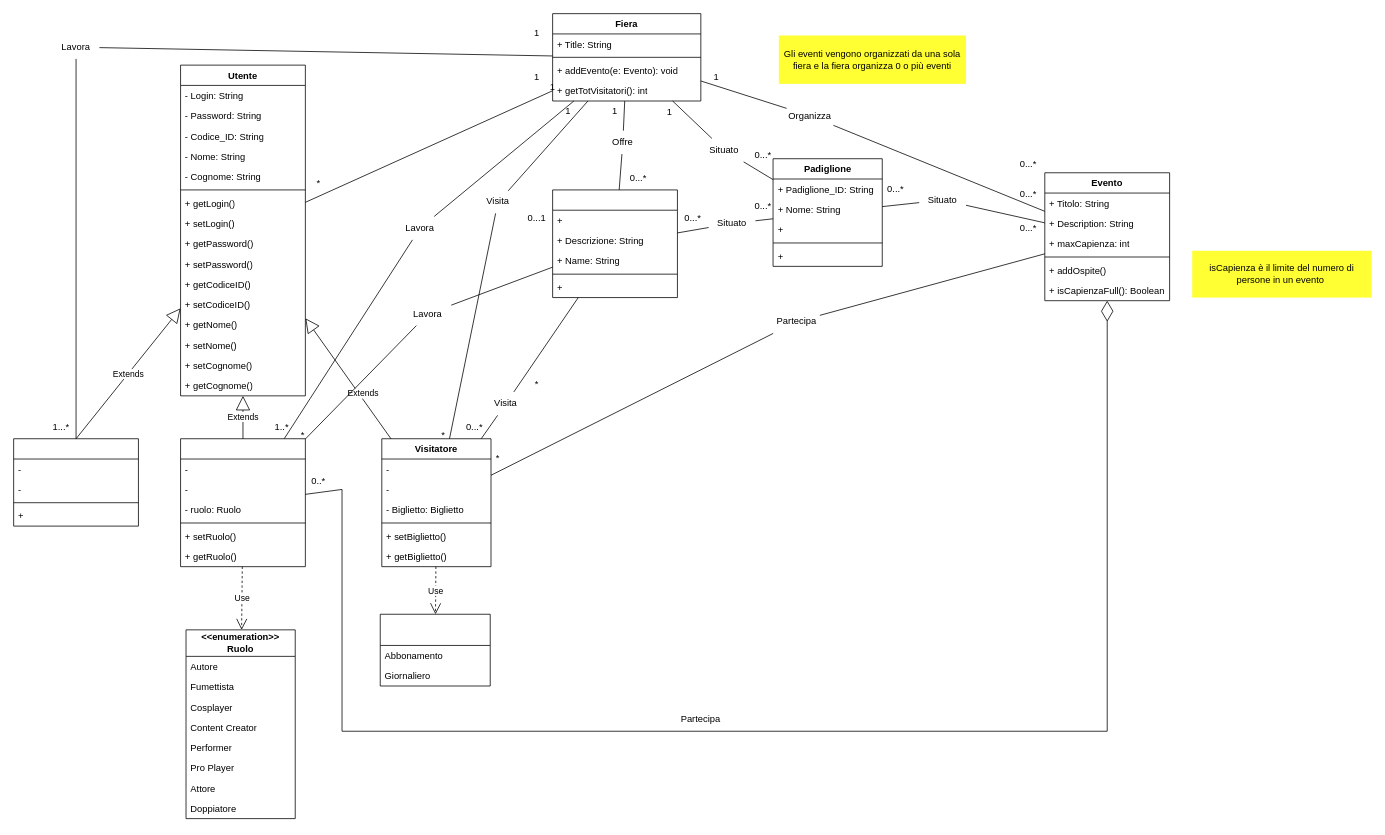
Image size: 1385x835. Some labels were removed from this diagram. Here are the shapes that lost their labels. From the top down, the box of each, then its label:
(552, 189, 677, 298): Stand
(13, 438, 138, 526): Lavoratore
(180, 438, 305, 567): Ospite
(379, 613, 490, 686): <<enumeration>> Biglietto
